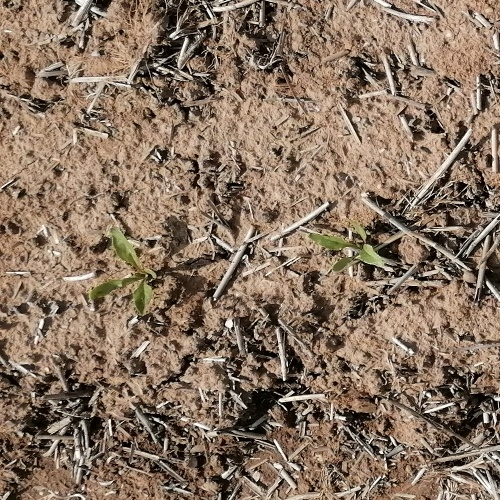beet: (87, 226, 153, 316), (308, 226, 393, 273)
